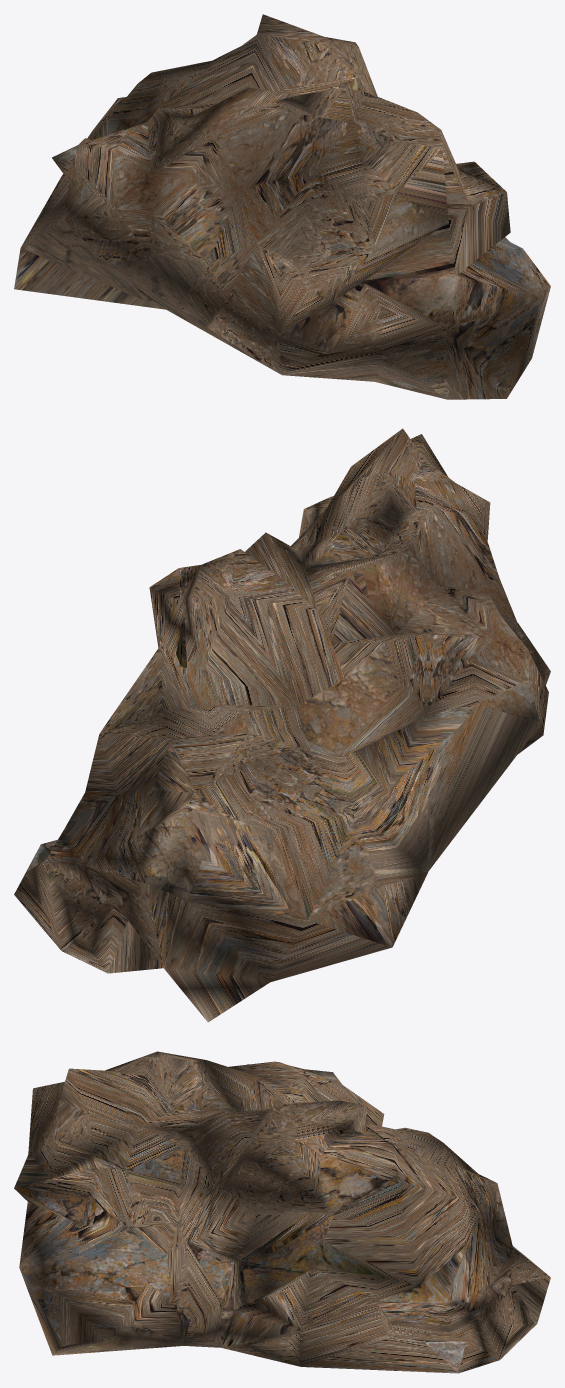
3 views of the same model, one above another, from view 1: azimuth 30°, elevation 25°; view 2: azimuth 150°, elevation 25°; view 3: azimuth 270°, elevation 25° (orthographic). The views are drawn at different scales.
Visible parts, largest first — view 1: boulder_01-0; view 2: boulder_01-0; view 3: boulder_01-0.
Boxes of the visible parts, <box> form: boulder_01-0: <box>14,14,550,399</box>; boulder_01-0: <box>14,428,550,1022</box>; boulder_01-0: <box>14,1051,550,1373</box>.
Size of the model in its own units: 1.24 by 0.9993 by 1.75.
1 material, 1 textured.
